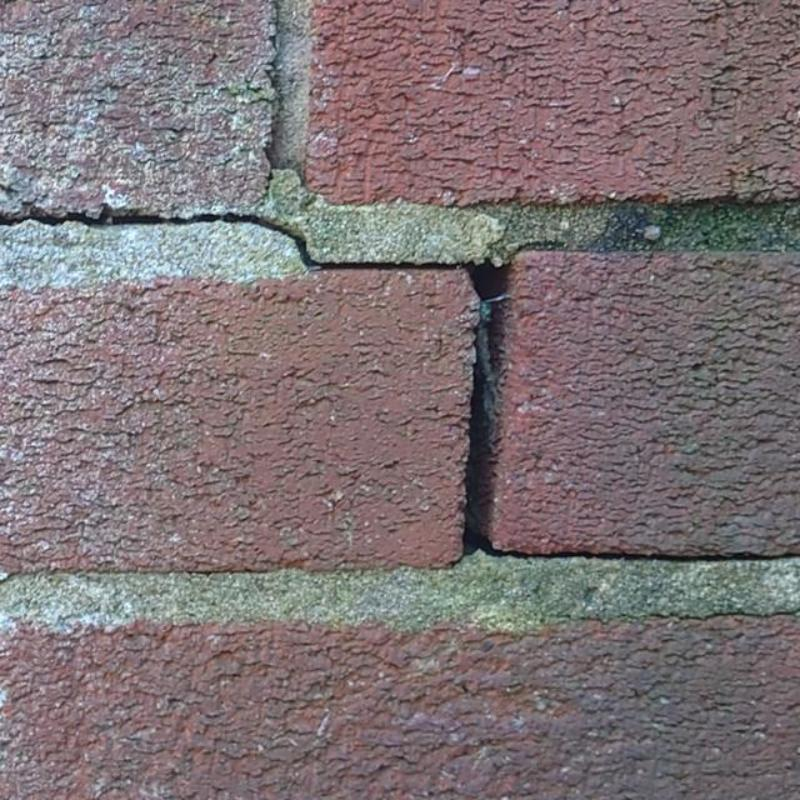pothole: (0, 212, 799, 562), (580, 609, 799, 626)
